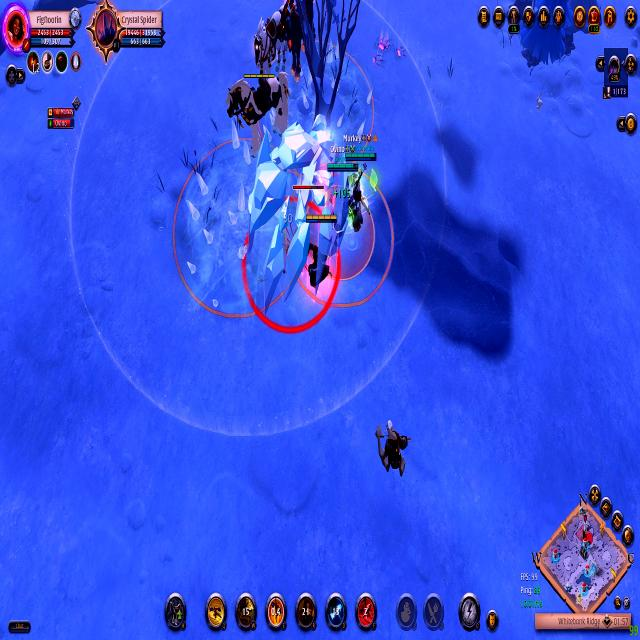ore: (244, 148, 353, 335), (373, 410, 409, 490)
red: (337, 130, 379, 242), (304, 208, 338, 297), (329, 138, 359, 182)
silver: (168, 140, 303, 316), (250, 36, 377, 194), (286, 164, 398, 313)
